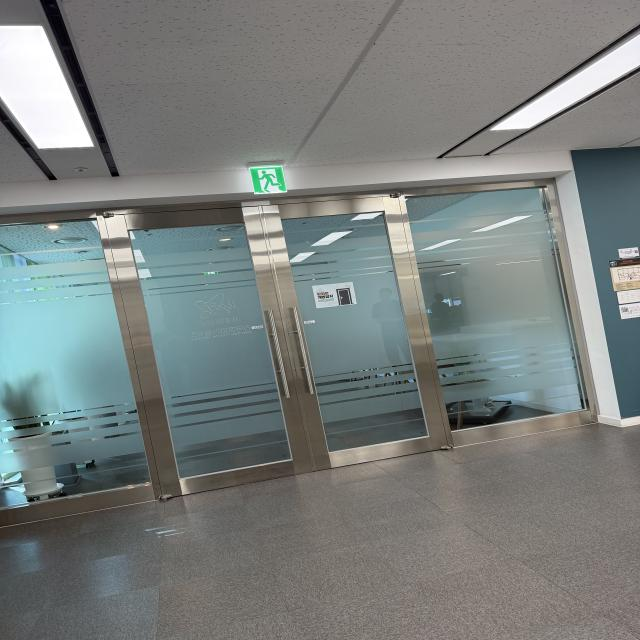front_door: (4, 182, 602, 530)
